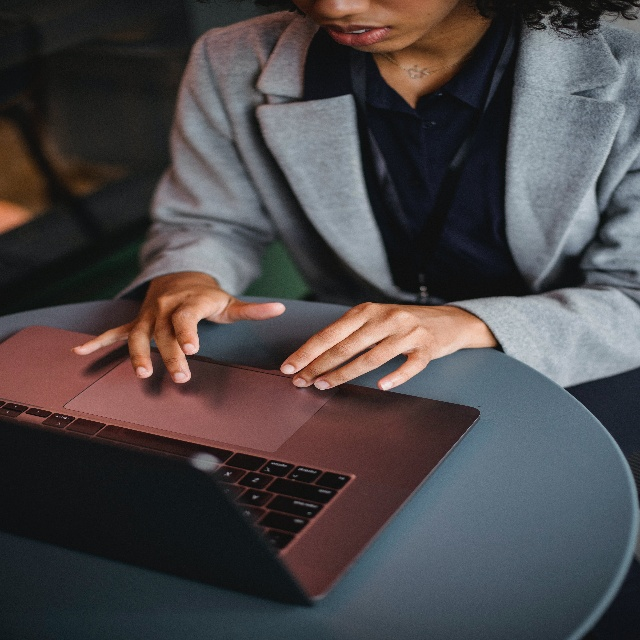Sin_guantes: (72, 279, 286, 382), (281, 301, 459, 392)
